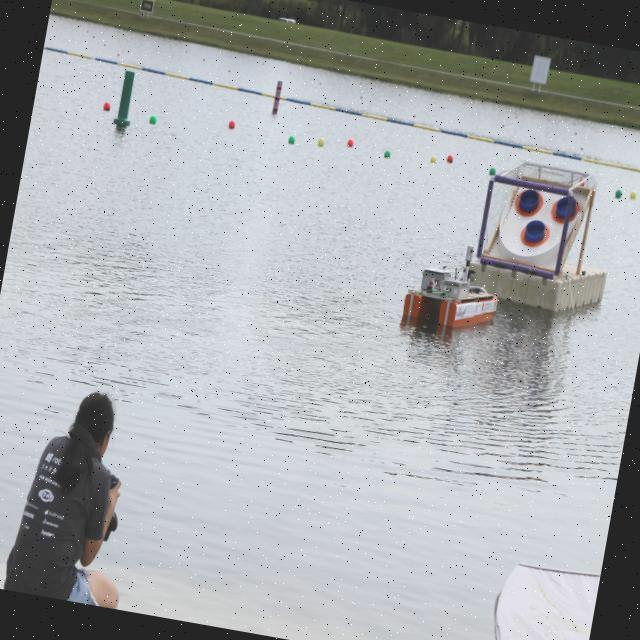buoy: (147, 112, 157, 126), (316, 136, 326, 148), (488, 165, 497, 176), (102, 99, 110, 110), (629, 189, 637, 200), (447, 152, 454, 164), (227, 120, 235, 130), (614, 188, 622, 198), (430, 154, 438, 164), (346, 138, 354, 147), (384, 149, 392, 158), (288, 136, 295, 144)
